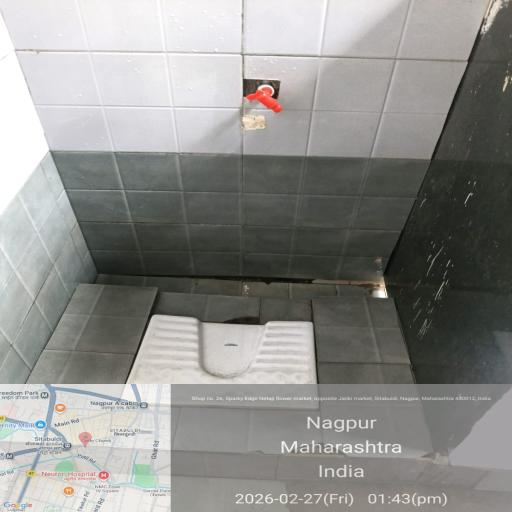clean_floor: (31, 28, 484, 287), (43, 280, 471, 490)
clean_indian: (130, 316, 344, 417)
